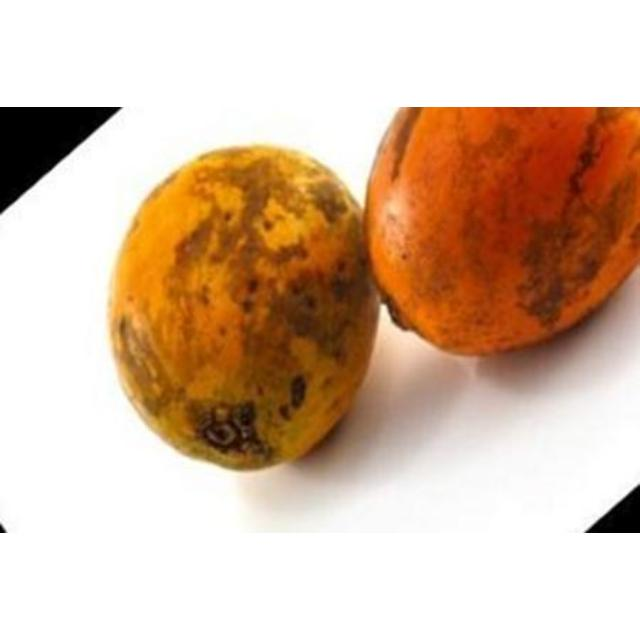good: (107, 145, 383, 475), (364, 107, 639, 359)
